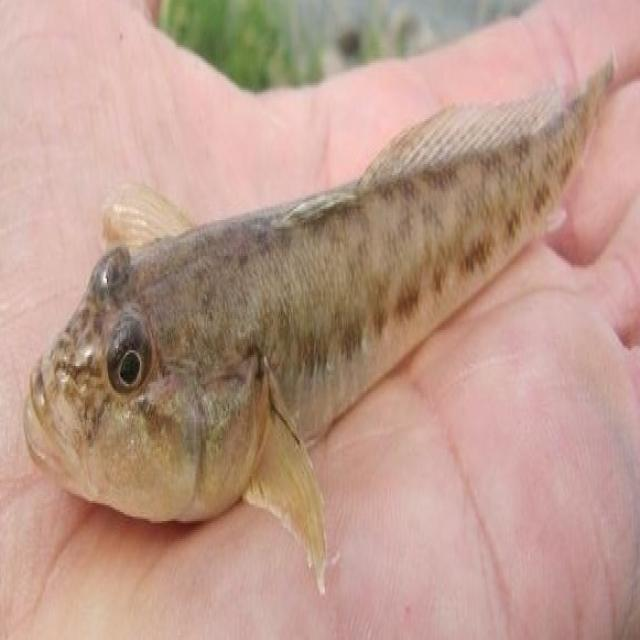Goby: (19, 10, 620, 617)
